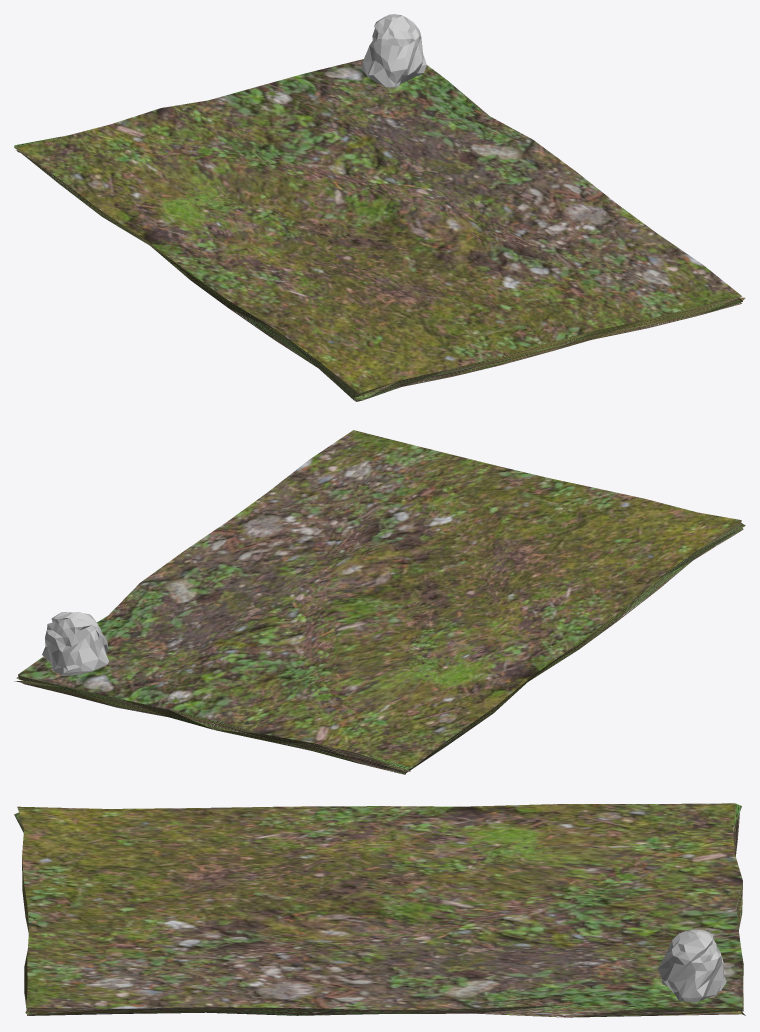
Rendered from texture.dae.
3 renders of one model, top to bottom at view 1: azimuth 30°, elevation 25°; view 2: azimuth 150°, elevation 25°; view 3: azimuth 270°, elevation 25°, orthographic. The views are drawn at different scales.
Visible parts, largest first — view 1: Cube, Icosphere; view 2: Cube, Icosphere; view 3: Cube, Icosphere.
Boxes of the visible parts, bbox=[...] form: Cube: bbox=[14, 59, 745, 401]; Icosphere: bbox=[361, 14, 426, 87]; Cube: bbox=[14, 430, 745, 774]; Icosphere: bbox=[42, 612, 108, 675]; Cube: bbox=[14, 803, 745, 1017]; Icosphere: bbox=[658, 930, 726, 1002].
Bounding box in the file's own units: 103 × 154 × 15.99.
